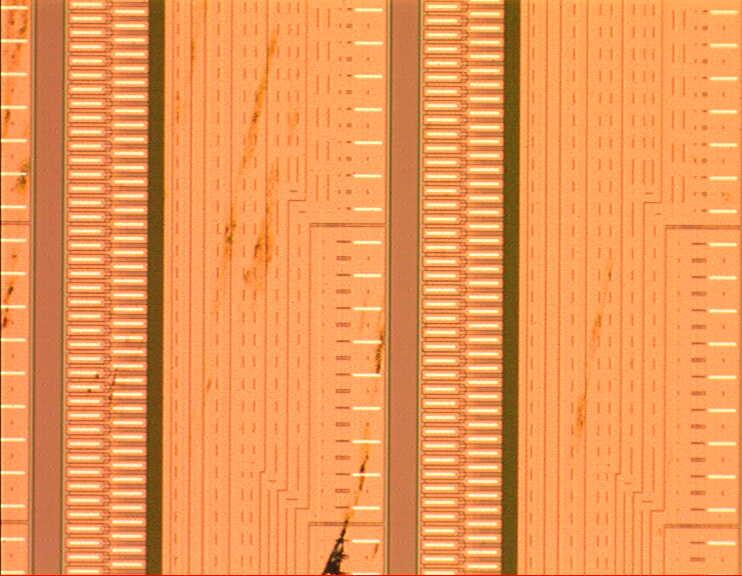SCRATCH: (1, 1, 627, 576)
